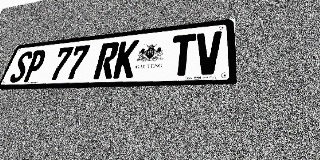7: (63, 45, 90, 81), (47, 47, 74, 81)
K: (112, 40, 140, 79)
P: (21, 49, 48, 82)
R: (93, 42, 120, 79)
S: (8, 51, 34, 83)
T: (169, 33, 196, 76)
V: (195, 31, 222, 75)
